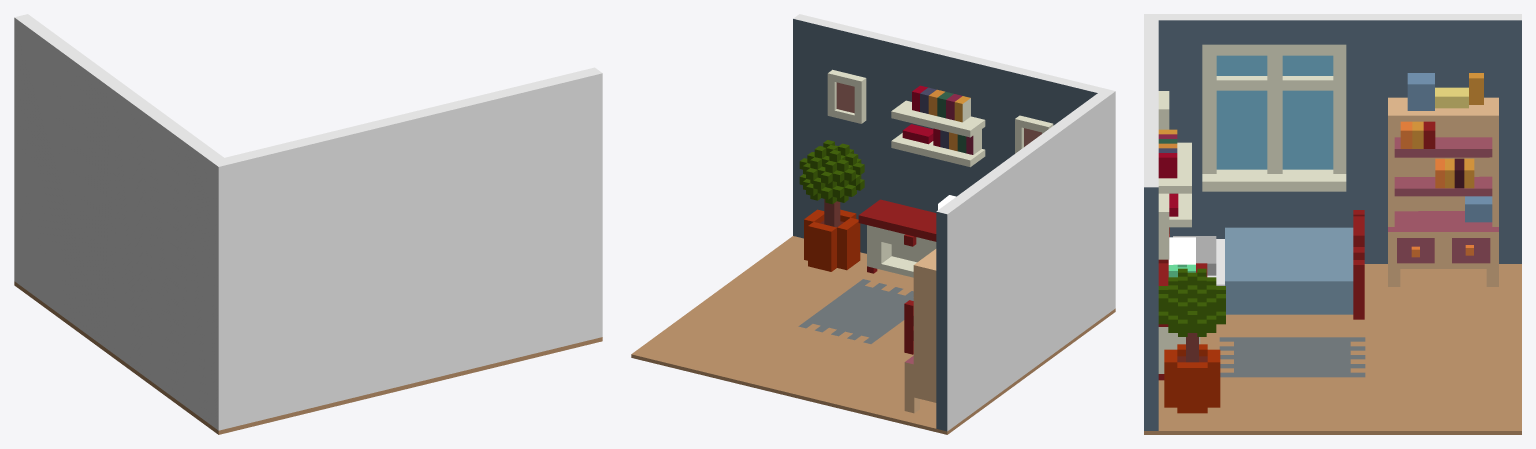
The model's file is bedroom2.gltf.
The picture shows the model from 3 angles, left to right: view 1: azimuth 30°, elevation 25°; view 2: azimuth 150°, elevation 25°; view 3: azimuth 270°, elevation 25°; orthographic projection. The views are drawn at different scales.
Visible parts, largest first — view 1: Object_24, Object_5; view 2: Object_24, Object_25, Object_5, Object_31, Object_19, Object_3, Object_6, Object_28, Object_33, Object_27, Object_34, Object_26; view 3: Object_25, Object_5, Object_22, Object_7, Object_19, Object_8, Object_18, Object_31, Object_3, Object_24, Object_6, Object_28 (+12 smaller).
Boxes of the visible parts, <box> form: Object_24: <box>14,14,602,430</box>; Object_5: <box>14,281,602,434</box>; Object_24: <box>793,14,1115,431</box>; Object_25: <box>793,19,1097,431</box>; Object_5: <box>631,236,1115,434</box>; Object_31: <box>827,69,1053,167</box>; Object_19: <box>904,249,936,413</box>; Object_3: <box>798,279,913,343</box>; Object_6: <box>799,140,864,204</box>; Object_28: <box>804,209,860,271</box>; Object_33: <box>858,199,936,340</box>; Object_27: <box>867,225,936,277</box>; Object_34: <box>902,85,940,146</box>; Object_26: <box>836,82,1041,146</box>; Object_25: <box>1144,20,1521,430</box>; Object_5: <box>1144,264,1521,434</box>; Object_22: <box>1225,227,1353,314</box>; Object_7: <box>1216,55,1333,169</box>; Object_19: <box>1388,97,1498,286</box>; Object_8: <box>1202,44,1346,173</box>; Object_18: <box>1388,137,1498,263</box>; Object_31: <box>1158,76,1346,259</box>; Object_3: <box>1219,337,1365,377</box>; Object_24: <box>1144,14,1521,187</box>; Object_6: <box>1158,268,1225,336</box>; Object_28: <box>1164,344,1220,413</box>.
Bounding box in the file's own units: 15 × 10 × 13.83.
